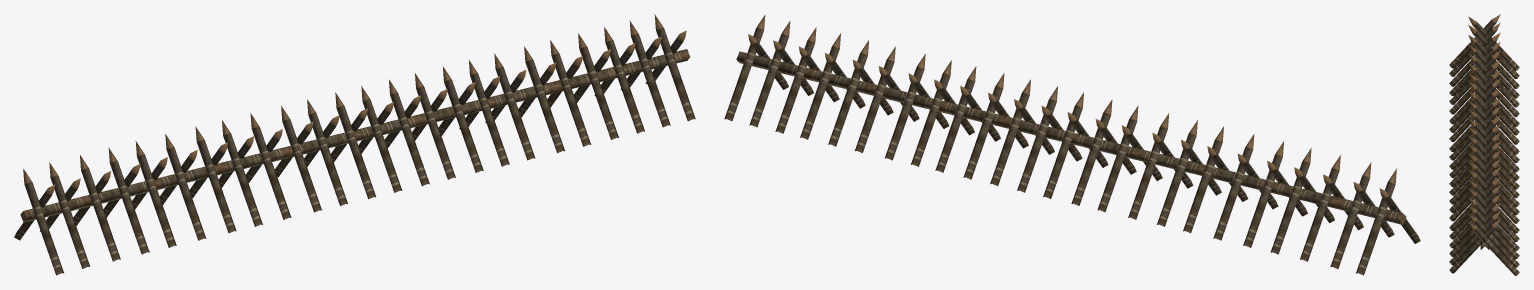
File: barricade_08.glb
3 renders of one model, left to right at view 1: azimuth 30°, elevation 25°; view 2: azimuth 150°, elevation 25°; view 3: azimuth 270°, elevation 25°, orthographic. The views are drawn at different scales.
Visible parts, largest first — view 1: res\artifact\guild\barricade\barricade_08.bsr; view 2: res\artifact\guild\barricade\barricade_08.bsr; view 3: res\artifact\guild\barricade\barricade_08.bsr.
Part boxes in pixels (x1,y1,x2,y2): res\artifact\guild\barricade\barricade_08.bsr: [14, 14, 695, 275]; res\artifact\guild\barricade\barricade_08.bsr: [724, 14, 1420, 275]; res\artifact\guild\barricade\barricade_08.bsr: [1449, 14, 1519, 275].
Size of the model in its own units: 133 by 15.73 by 18.44.
Materials: 2 (2 with a texture image).
